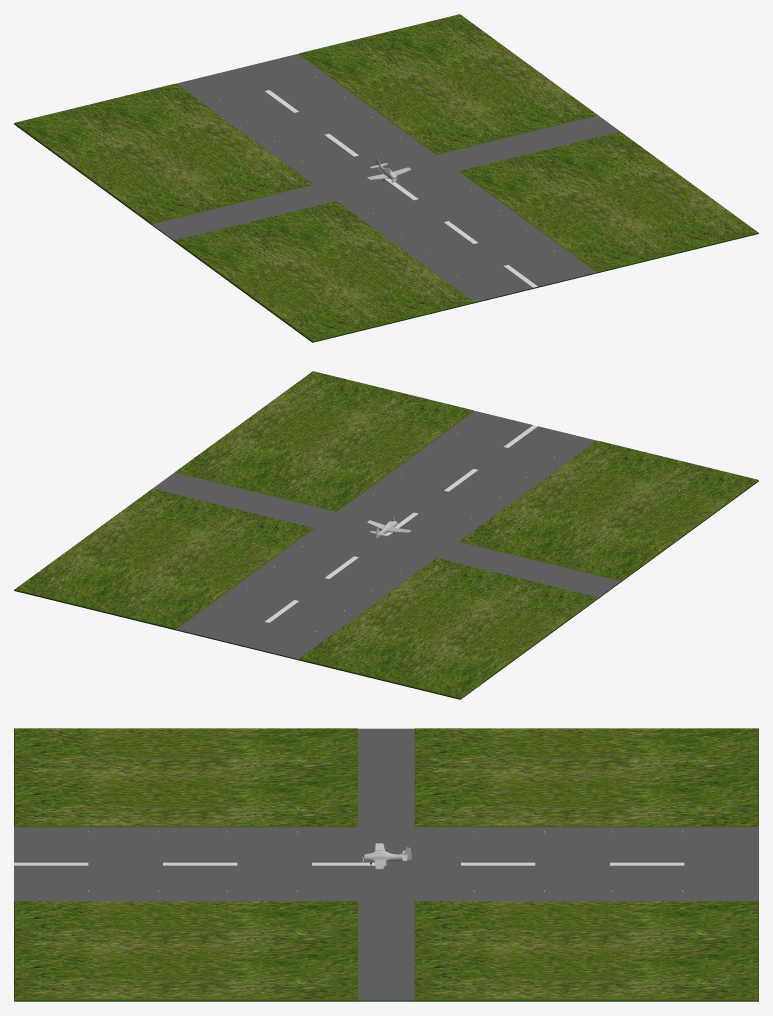
Rendered from Lab2FBX.fbx.
3 renders of one model, top to bottom at view 1: azimuth 30°, elevation 25°; view 2: azimuth 150°, elevation 25°; view 3: azimuth 270°, elevation 25°, orthographic. The views are drawn at different scales.
Parts seen in each view (by area): view 1: ground, airport_runway; view 2: ground, airport_runway; view 3: ground, airport_runway, Lab2_Trojan_with_landingGear.
Boxes of the visible parts, x1,y1,x2,y2 form: ground: [14, 14, 758, 342]; airport_runway: [176, 54, 595, 301]; ground: [14, 371, 758, 699]; airport_runway: [177, 411, 596, 658]; ground: [14, 728, 758, 1001]; airport_runway: [14, 827, 758, 901]; Lab2_Trojan_with_landingGear: [361, 843, 411, 869].
Bounding box in the file's own units: 90.76 × 2.79 × 105.
